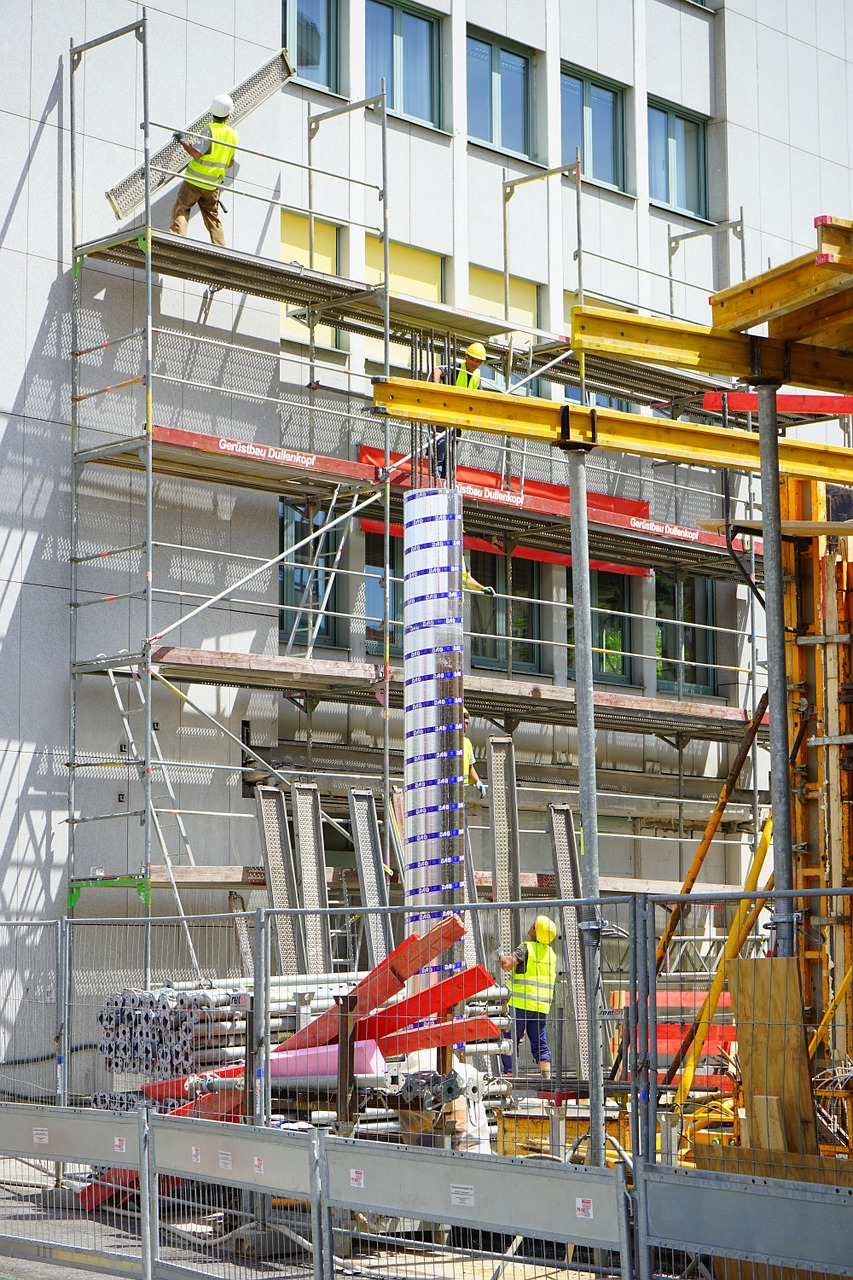Hard Hat: (527, 915, 554, 946), (209, 95, 234, 126), (462, 343, 487, 373)
Person: (166, 96, 235, 248), (496, 917, 554, 1077), (441, 341, 485, 392)
Vest: (176, 108, 238, 188), (513, 923, 555, 1015), (444, 355, 482, 391)
